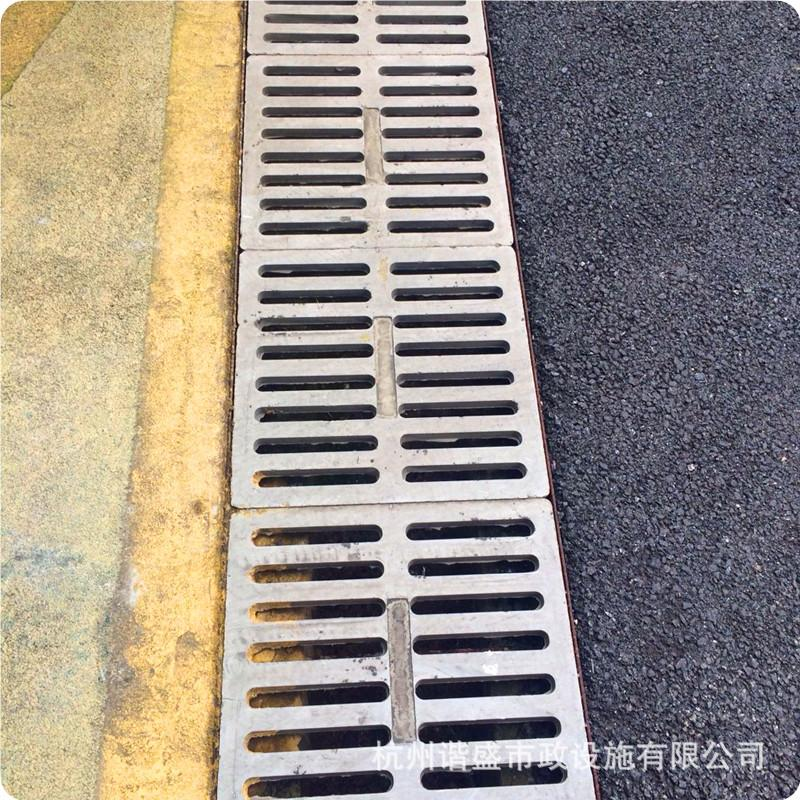wellcover: (203, 0, 616, 800)
